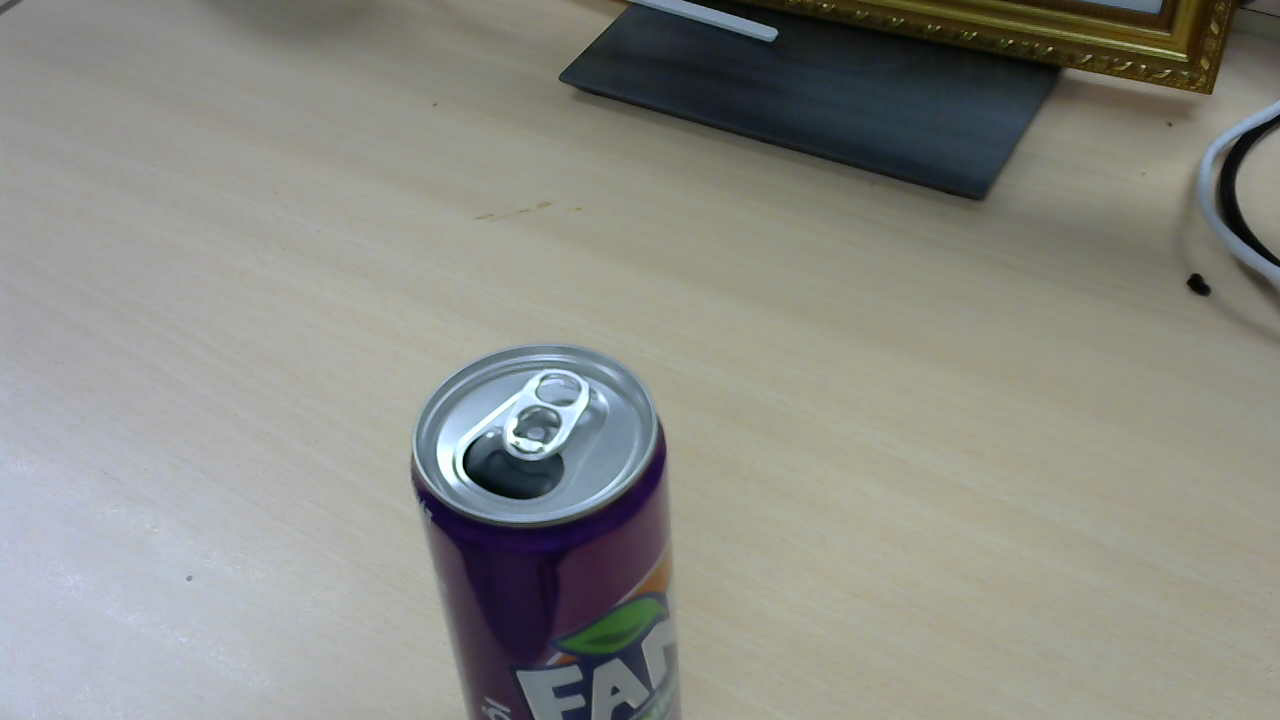Fanta: (413, 348, 686, 697)
